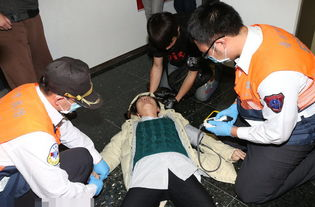fall: (98, 83, 244, 207)
